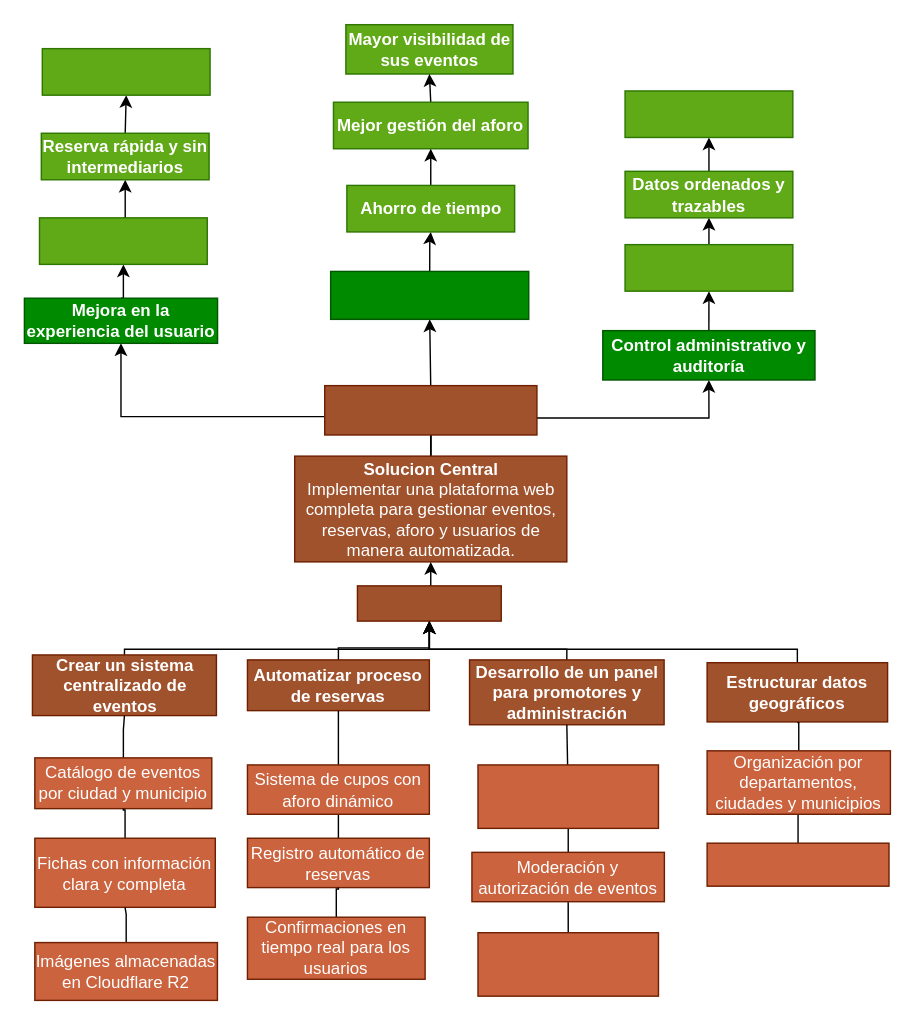
The diagram is 917 pixels wide and 1025 high, and some of its shapes have lost their labels. Here are the shapes that lost their labels. From the top down, the box of each, then its label:
(41, 47, 210, 95): Ubicación del evento más accesible
(624, 90, 793, 137): Disminución del riesgo operativo
(38, 216, 207, 264): Información clara y centralizada
(624, 243, 793, 291): Sistema seguro con roles
(329, 270, 529, 319): Mayor eficiencia para promotores
(323, 384, 537, 435): EFECTOS
(356, 584, 501, 621): CAUSAS
(477, 764, 658, 828): Creación y edición de eventos con interfaz amigable
(706, 842, 889, 886): Ubicación clara en cada evento
(477, 931, 658, 996): Estadísticas de uso y actividad del sistema
